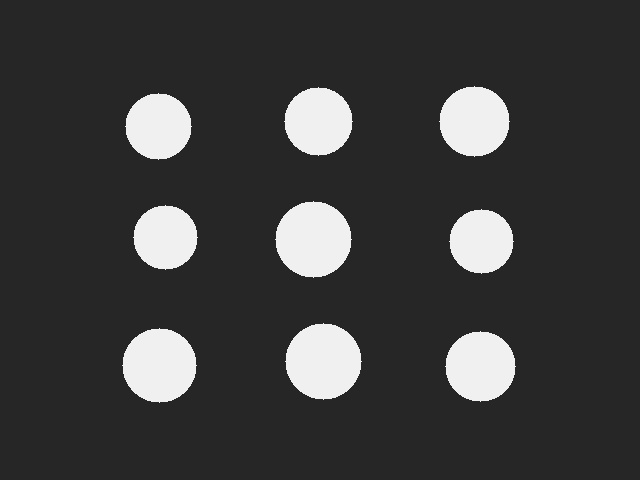hole: (275, 201, 351, 277), (285, 323, 361, 399), (122, 328, 196, 402), (439, 86, 509, 156), (445, 331, 515, 401), (284, 87, 352, 155), (125, 93, 191, 159), (133, 205, 197, 269), (449, 209, 513, 273)
